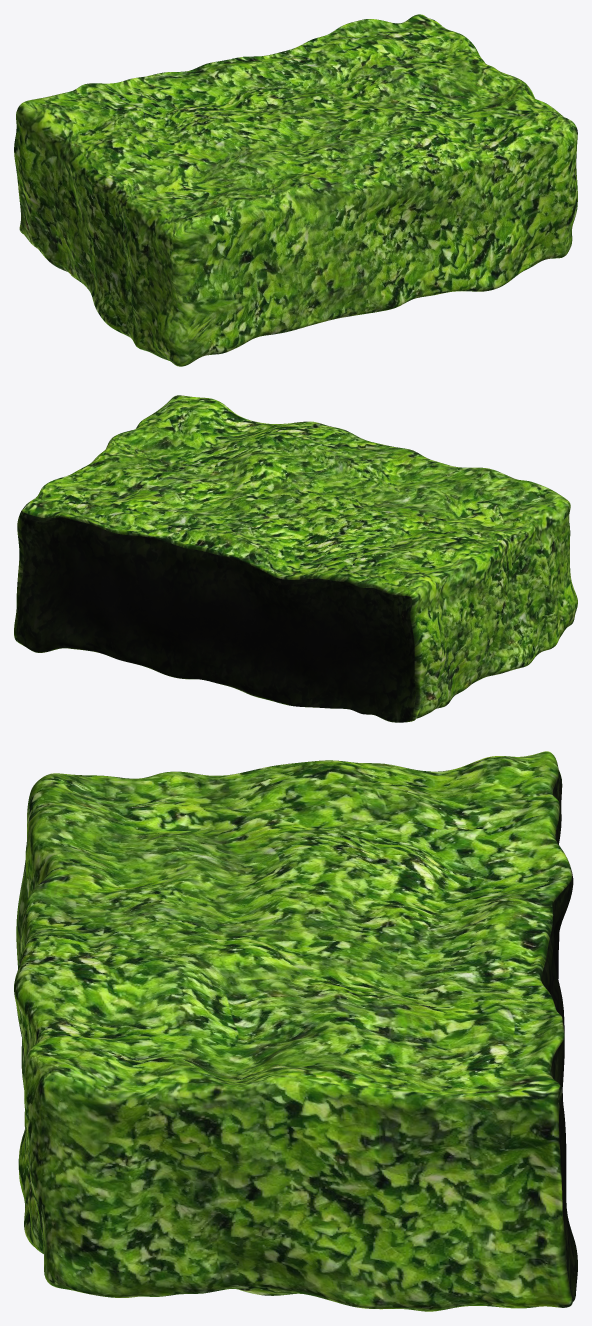
The model's file is 10449_Rectangular_Box_Hedge_v1_iterations-2.obj.
The picture shows the model from 3 angles, top to bottom: view 1: azimuth 30°, elevation 25°; view 2: azimuth 150°, elevation 25°; view 3: azimuth 270°, elevation 25°; orthographic projection. The views are drawn at different scales.
Parts seen in each view (by area): view 1: 10449_Rectangular_Box_Hedge_v1_SG; view 2: 10449_Rectangular_Box_Hedge_v1_SG; view 3: 10449_Rectangular_Box_Hedge_v1_SG.
Part boxes in pixels (<box>): 10449_Rectangular_Box_Hedge_v1_SG: <box>14,14,577,366</box>; 10449_Rectangular_Box_Hedge_v1_SG: <box>14,395,577,722</box>; 10449_Rectangular_Box_Hedge_v1_SG: <box>14,751,577,1311</box>.
Size of the model in its own units: 231 by 80.5 by 160.
1 material, 1 textured.
